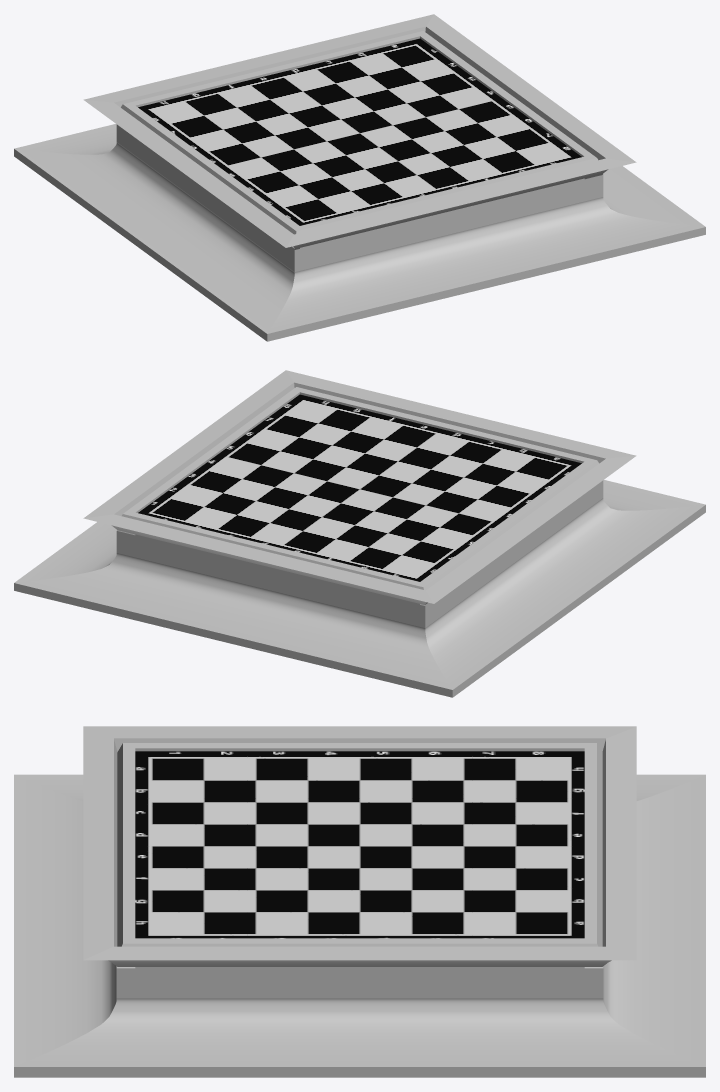
File: chessboard.fbx
3 views of the same model, one above another, from view 1: azimuth 30°, elevation 25°; view 2: azimuth 150°, elevation 25°; view 3: azimuth 270°, elevation 25° (orthographic). The views are drawn at different scales.
Parts seen in each view (by area): view 1: Rectangle002, Plane001; view 2: Rectangle002, Plane001; view 3: Rectangle002, Plane001.
Boxes of the visible parts, x1,y1,x2,y2 form: Rectangle002: [14, 14, 705, 341]; Plane001: [138, 38, 581, 225]; Rectangle002: [14, 370, 705, 697]; Plane001: [138, 394, 581, 581]; Rectangle002: [14, 726, 705, 1077]; Plane001: [135, 751, 584, 938].
Bounding box in the file's own units: 399 × 56.62 × 399.
